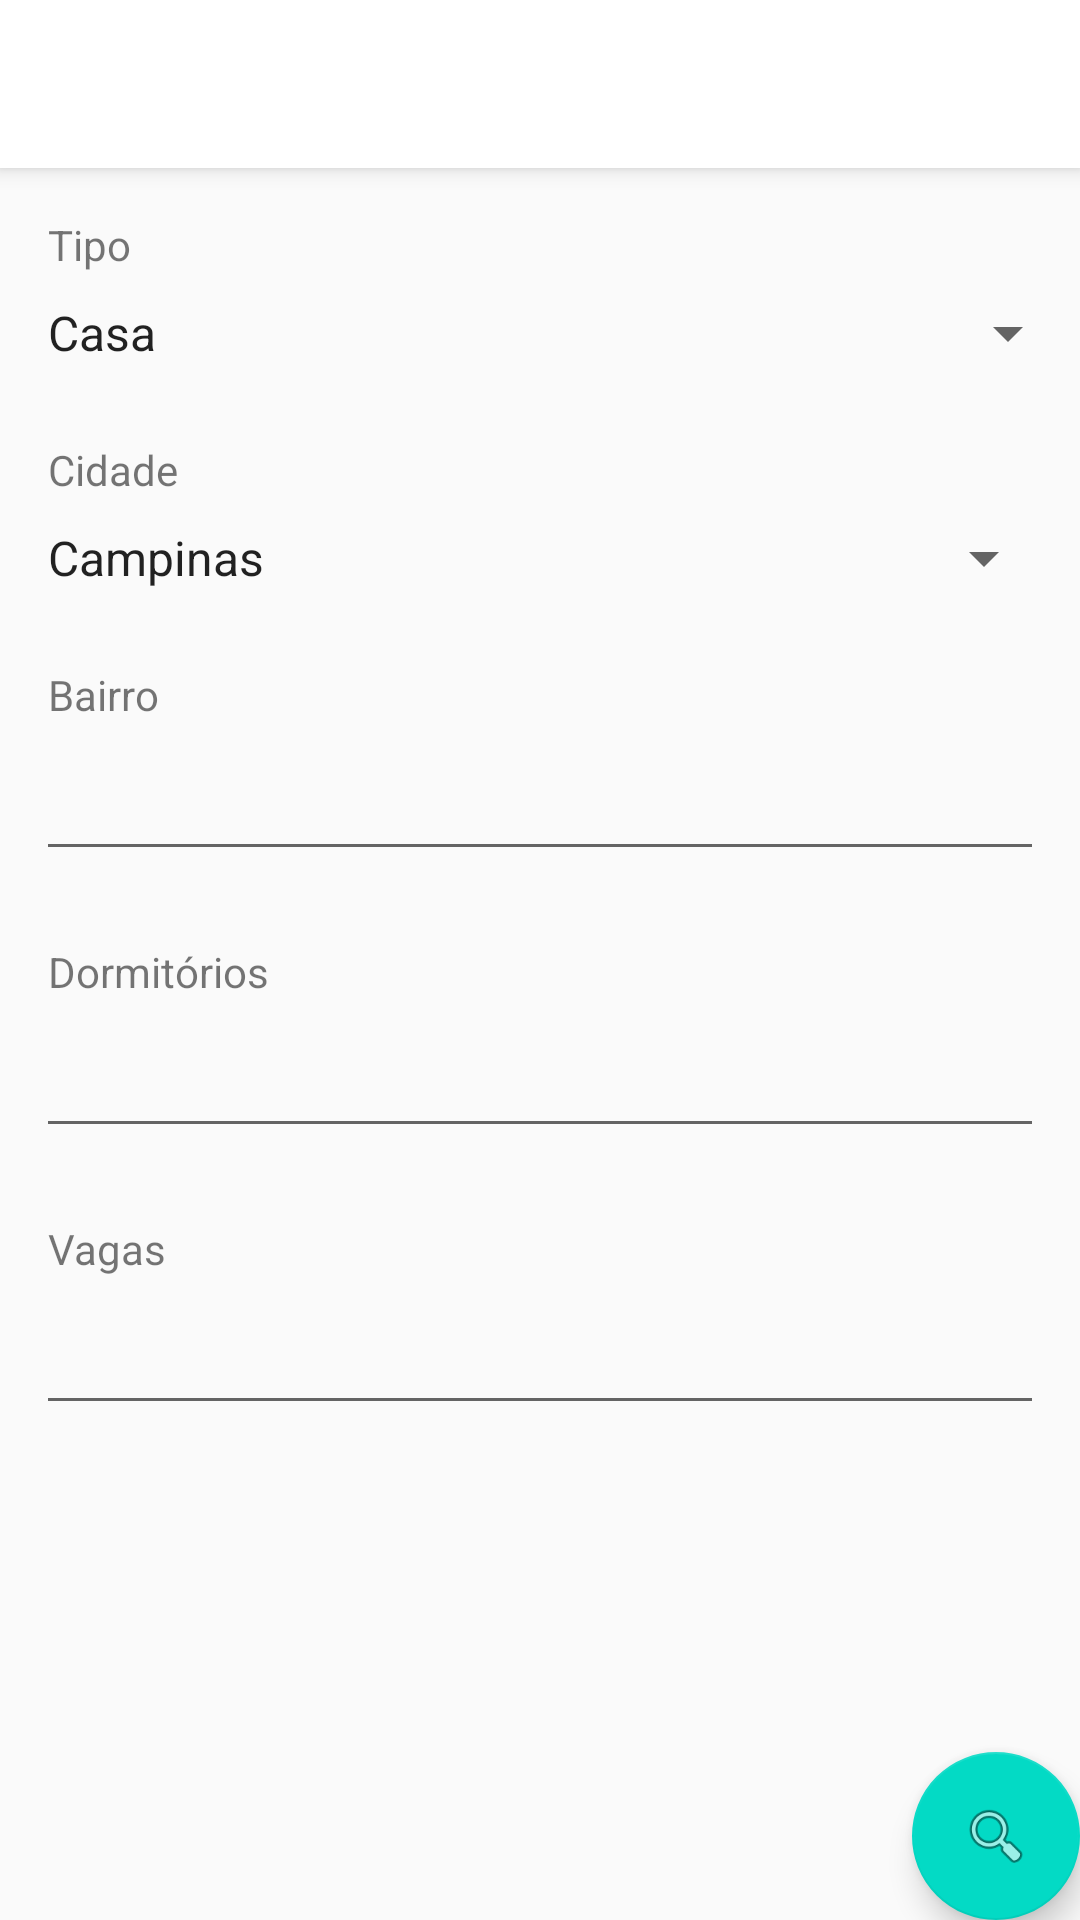

Where to tap for icons on this 1080*1920 app screen, as (x,y):
search: (996,1836)
